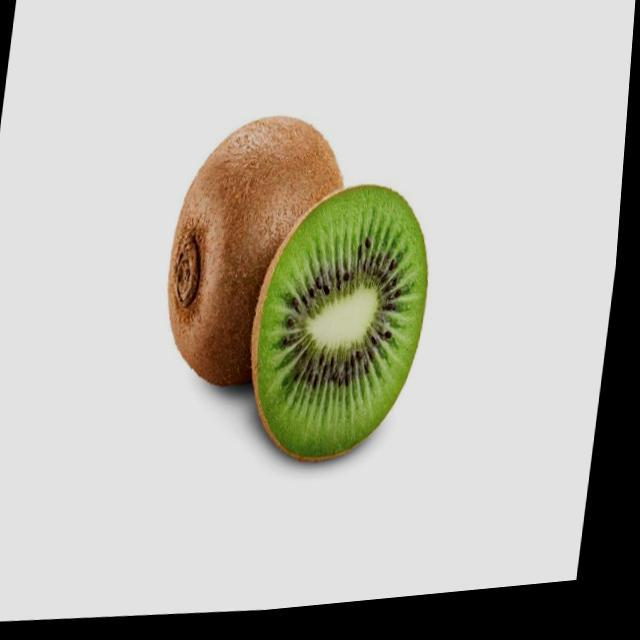kiwi: (161, 110, 357, 403)
